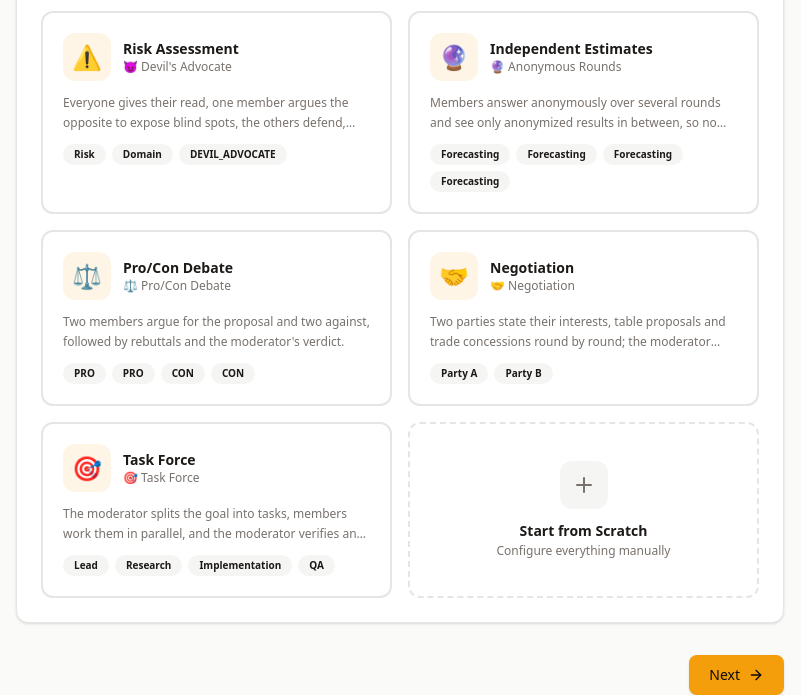
GroupWizardPage › config step Next is disabled without name
The image size is (801, 695).
(page scrolled)
# Skip template step
What coordinates should you click on to do the following:
click the button with test id "template-blank"
I would click on:
 (584, 510)
Its box is [408,422,759,598].
(page scrolled)
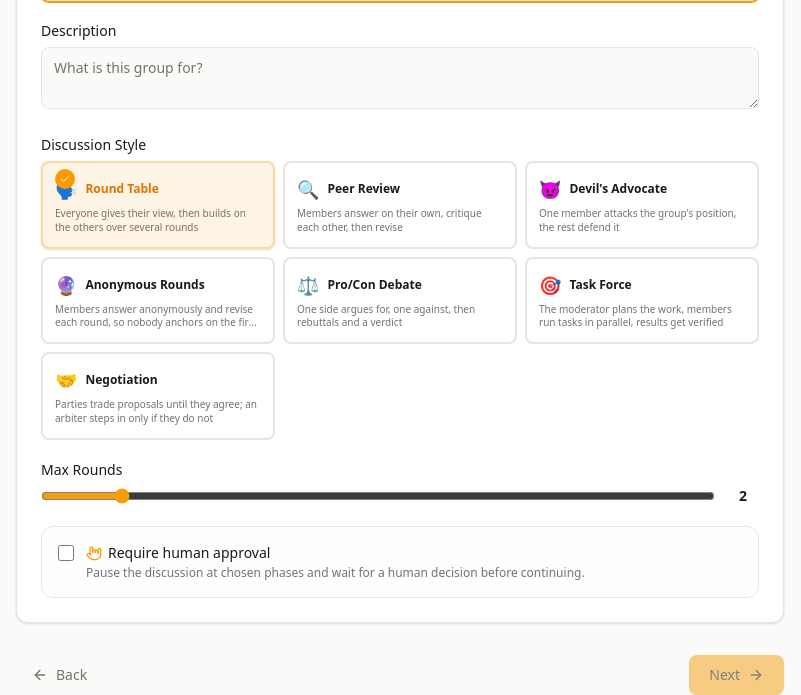
Expected: the button with test id "group-wizard-next" is disabled, [689,654,784,694]
